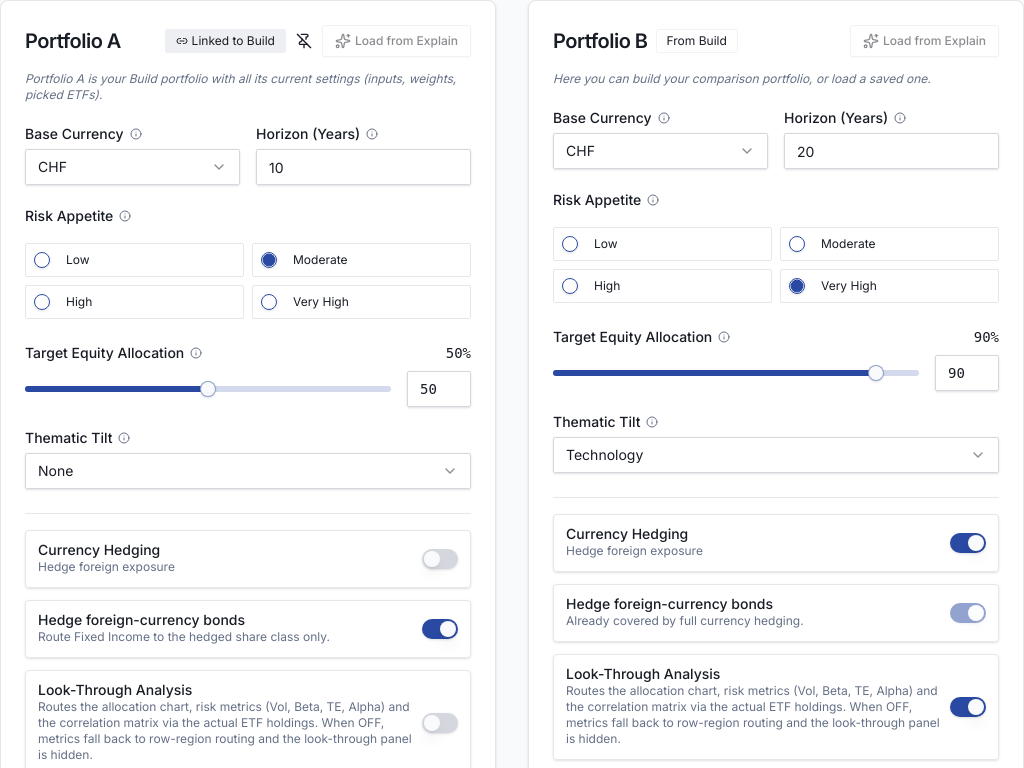
Test: Compare Slot A — auto-link timing › repeated unlink → re-link cycles preserve the user-chosen state across Build edits
expect the element with test id "compare-slot-a-linked-badge" is shown: met, box [165,29,286,53]
Step 1. Click the button with test id "compare-slot-a-unpin-button" → (304, 41), box [292,29,316,53]
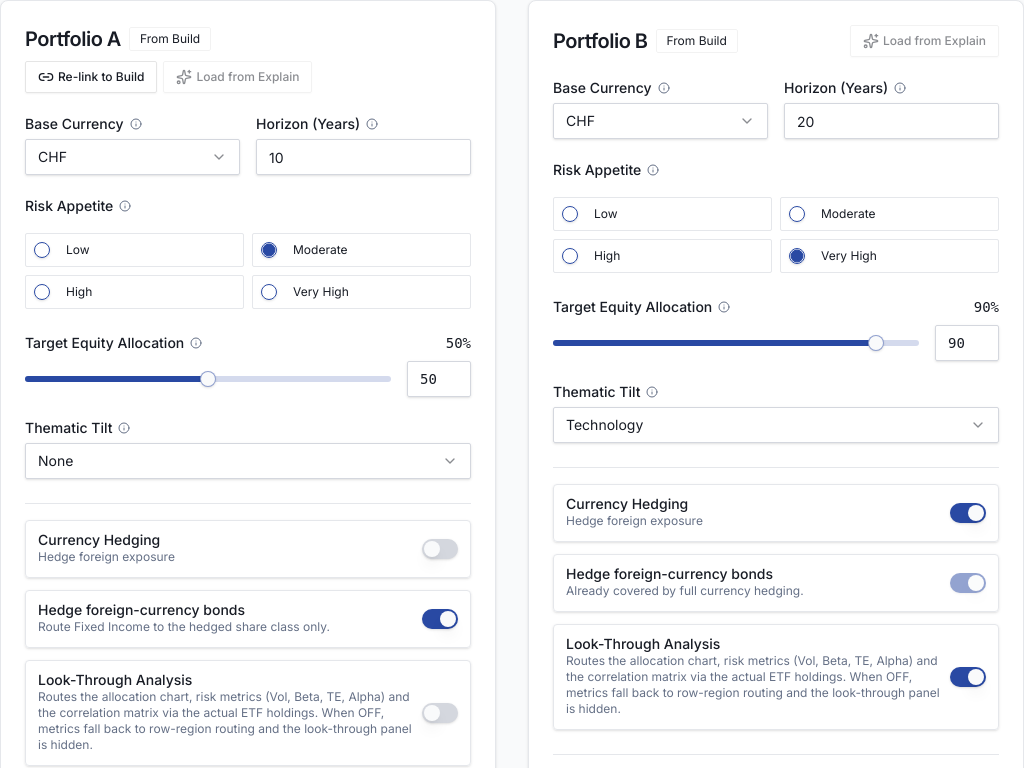
expect the element with test id "compare-slot-a-linked-badge" is gone: met
expect the button with test id "compare-slot-a-relink-button" is shown: met
# User explicitly re-links. Badge should come back.
Step 2. Click the button with test id "compare-slot-a-relink-button" → (91, 77), box [25,61,157,93]
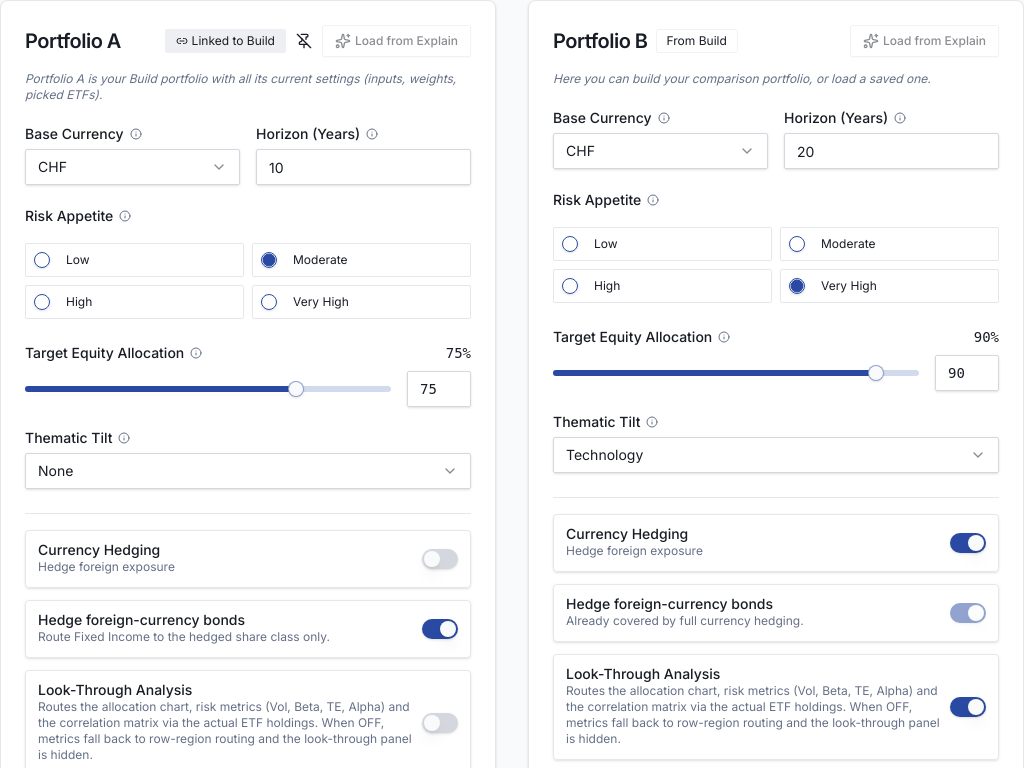
expect the element with test id "compare-slot-a-linked-badge" is shown: met, box [165,29,286,53]
Step 3. Click the button with test id "compare-slot-a-unpin-button" → (304, 41), box [292,29,316,53]
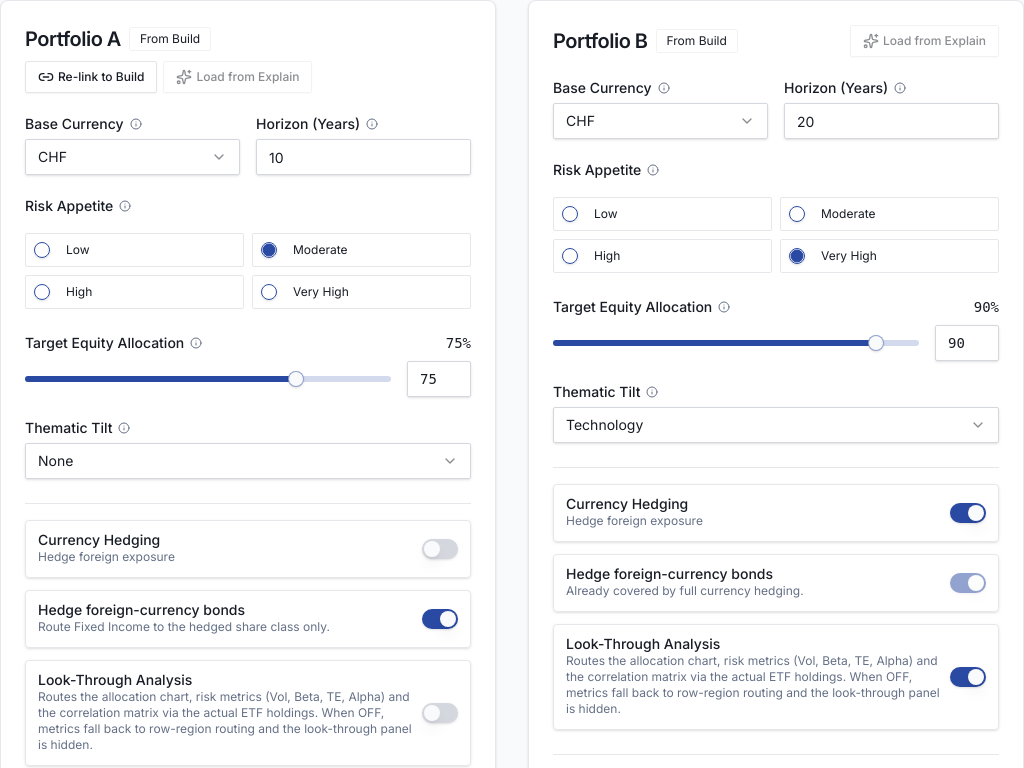
expect the element with test id "compare-slot-a-linked-badge" is gone: met
expect the button with test id "compare-slot-a-relink-button" is shown: met, box [25,61,157,93]
